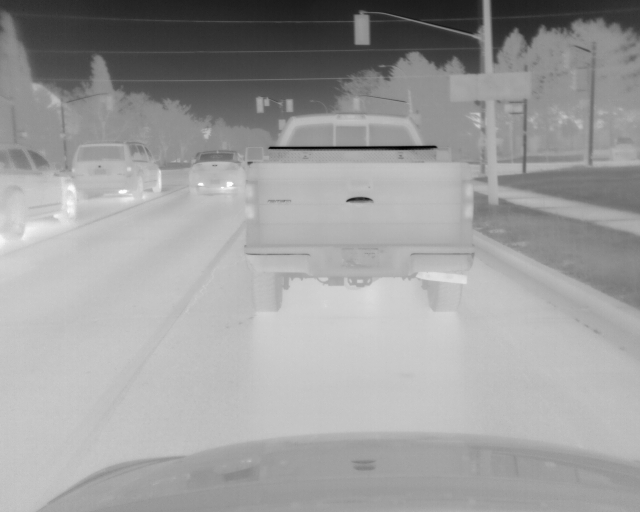car: (241, 111, 476, 314), (1, 144, 78, 242), (69, 140, 162, 202), (189, 148, 246, 196)
